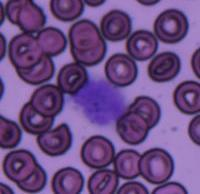M: (72, 77, 128, 126)
